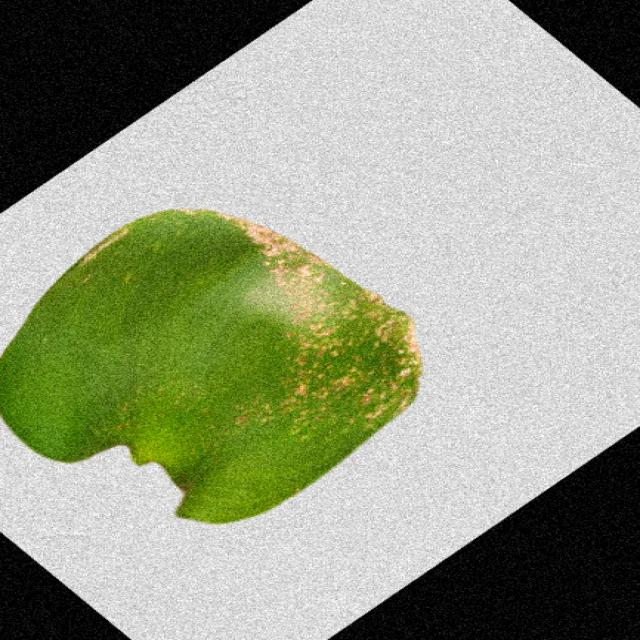daun berpenyakit bercak: (2, 211, 421, 524)
